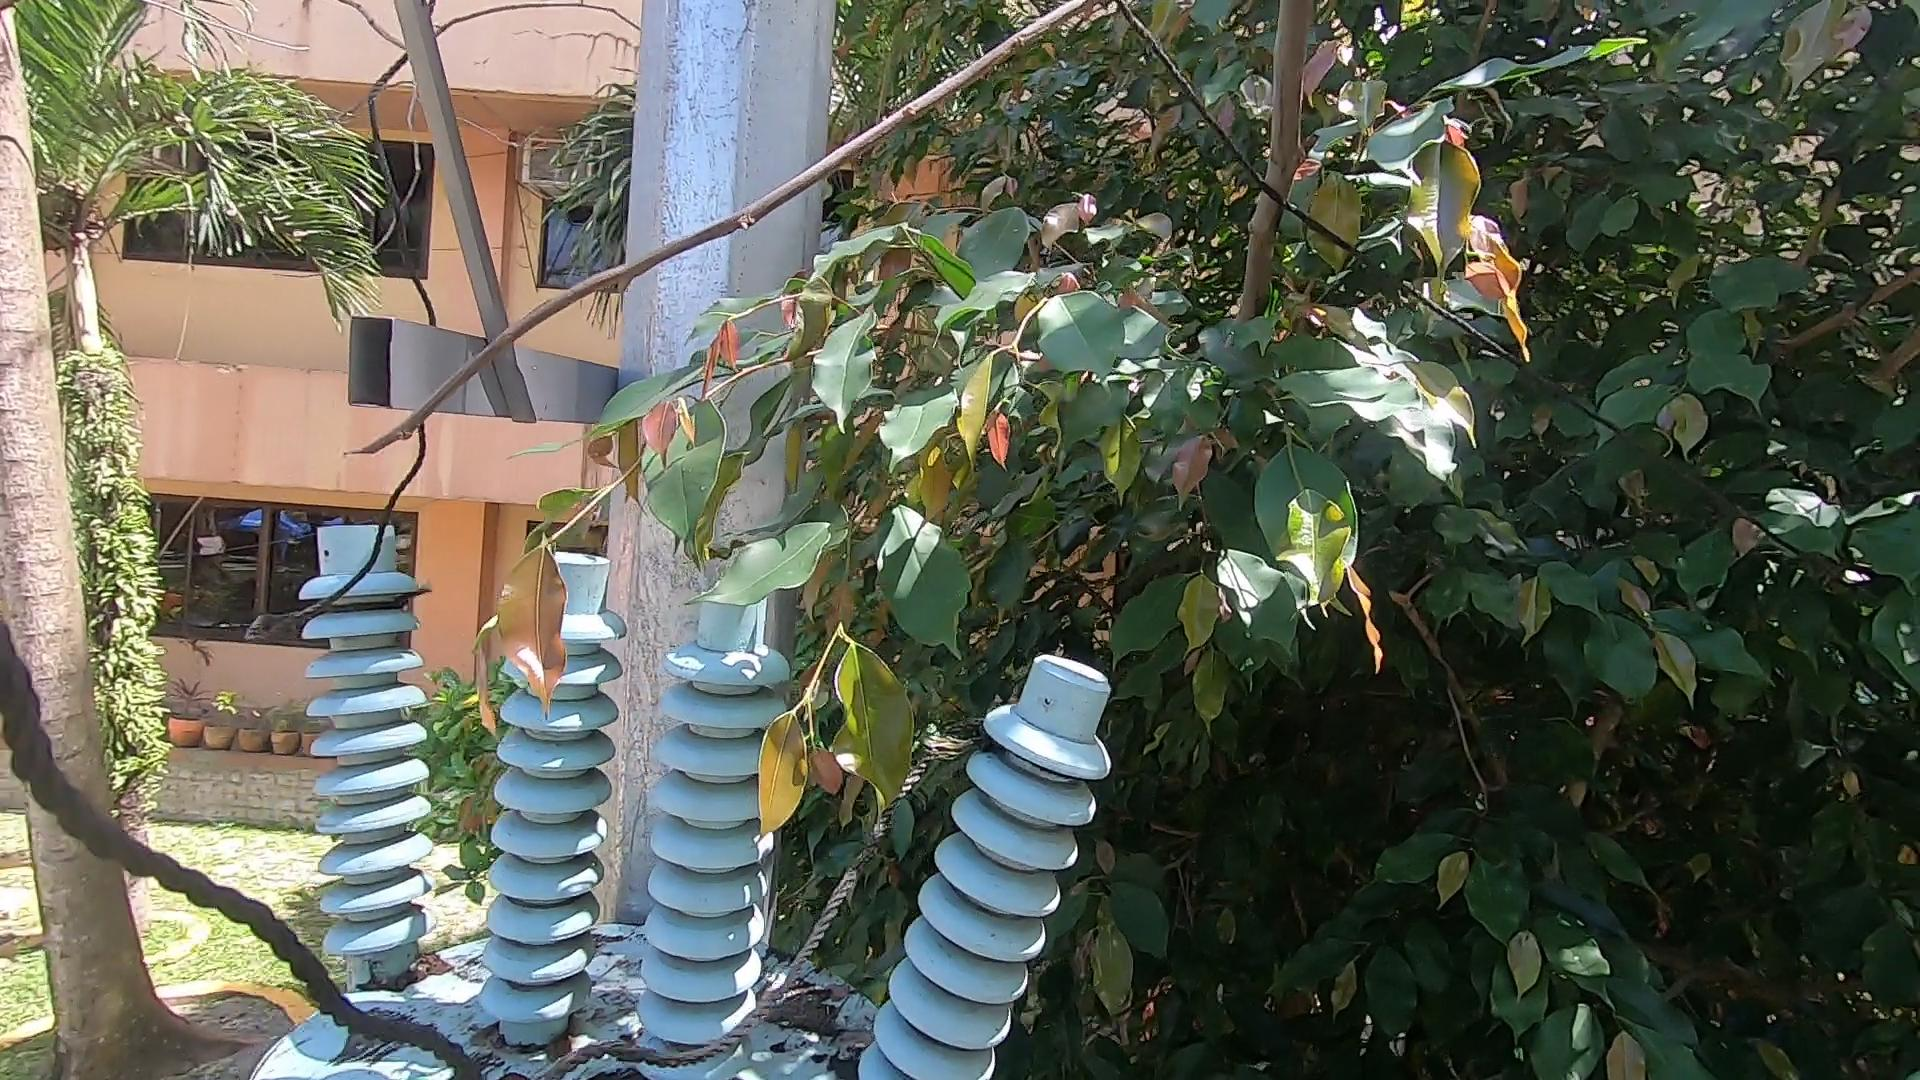leaf: (761, 980, 872, 1036), (363, 942, 465, 998), (535, 1025, 585, 1062), (464, 1021, 501, 1052)
tree branch: (303, 1, 1340, 593)
